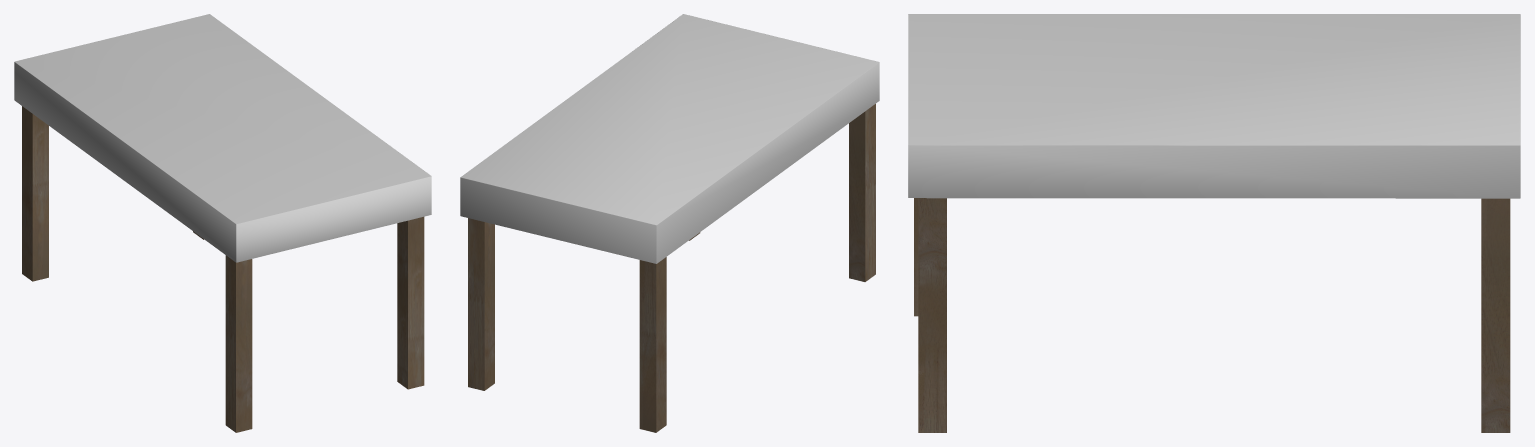
The model's file is Table.fbx.
3 renders of one model, left to right at view 1: azimuth 30°, elevation 25°; view 2: azimuth 150°, elevation 25°; view 3: azimuth 270°, elevation 25°, orthographic. The views are drawn at different scales.
Visible parts, largest first — view 1: Table_Cloth, Table_Wood; view 2: Table_Cloth, Table_Wood; view 3: Table_Cloth, Table_Wood.
Boxes of the visible parts, x1,y1,x2,y2 form: Table_Cloth: (14,14,431,262); Table_Wood: (22,106,424,432); Table_Cloth: (460,14,879,263); Table_Wood: (468,104,875,432); Table_Cloth: (908,14,1520,198); Table_Wood: (914,198,1510,432).
Size of the model in its own units: 0.7494 by 0.7716 by 1.47.
